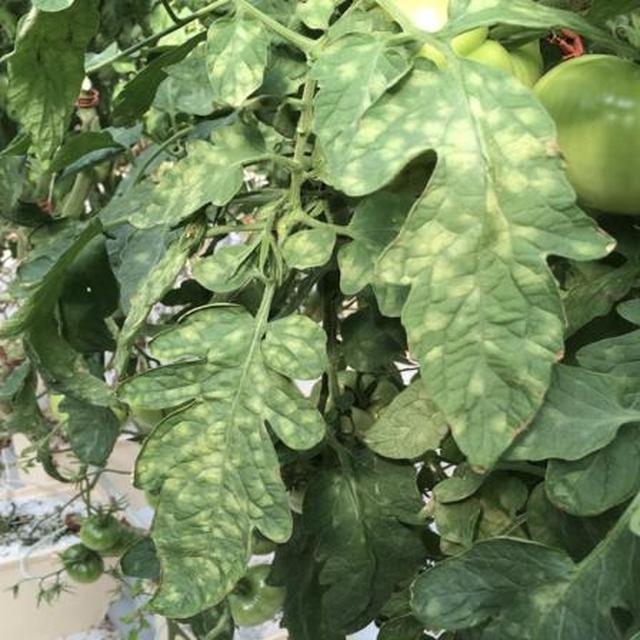Leaf Mold: (164, 99, 640, 640)
